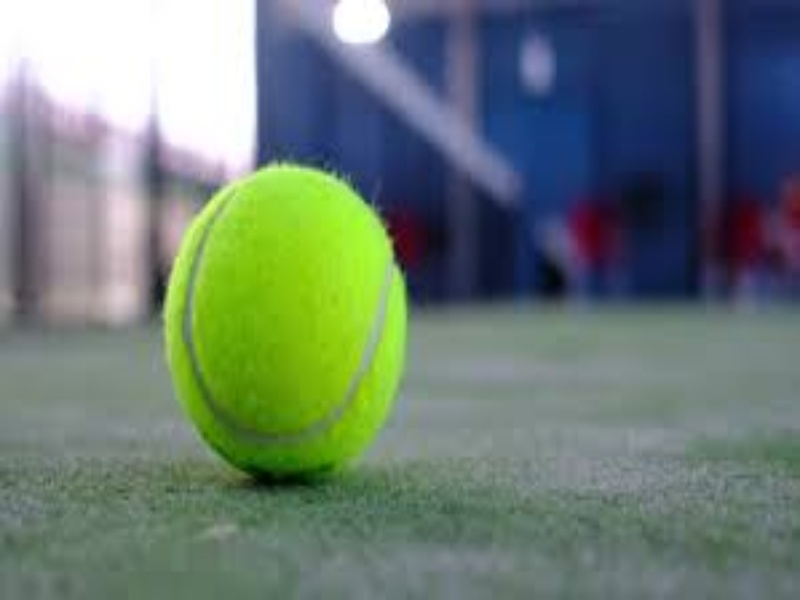tennis ball: (157, 144, 438, 513)
